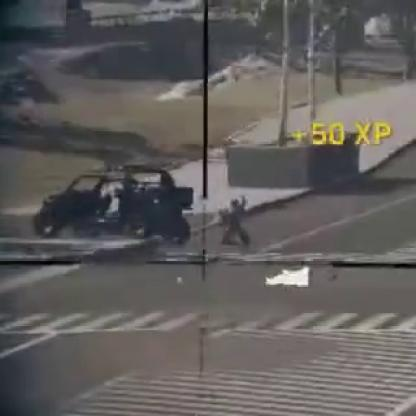enemy: (219, 198, 252, 248)
